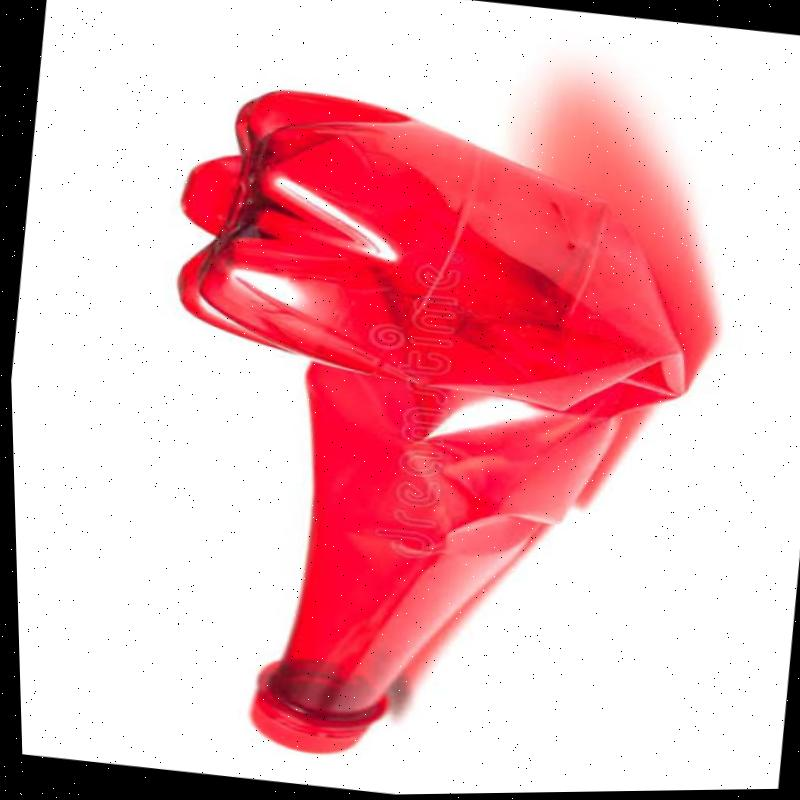plastic bottle: (178, 86, 699, 755)
